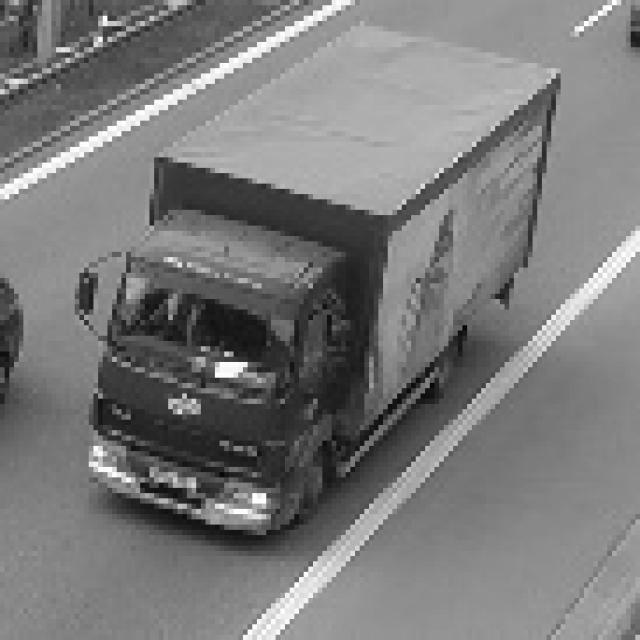truck: (60, 181, 379, 553)
